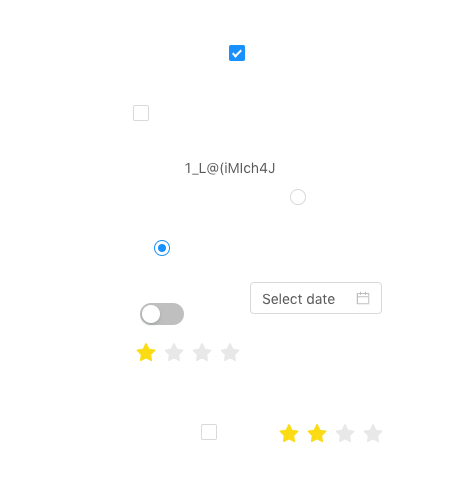Checkbox: (229, 42, 245, 63), (201, 421, 217, 442), (133, 102, 149, 123)
DatePicker: (250, 282, 382, 314)
Radio: (290, 186, 306, 206), (154, 237, 170, 257)
Rate: (279, 417, 399, 449), (136, 336, 256, 368)
Switch: (140, 302, 184, 326)
Text: (184, 157, 281, 177)
